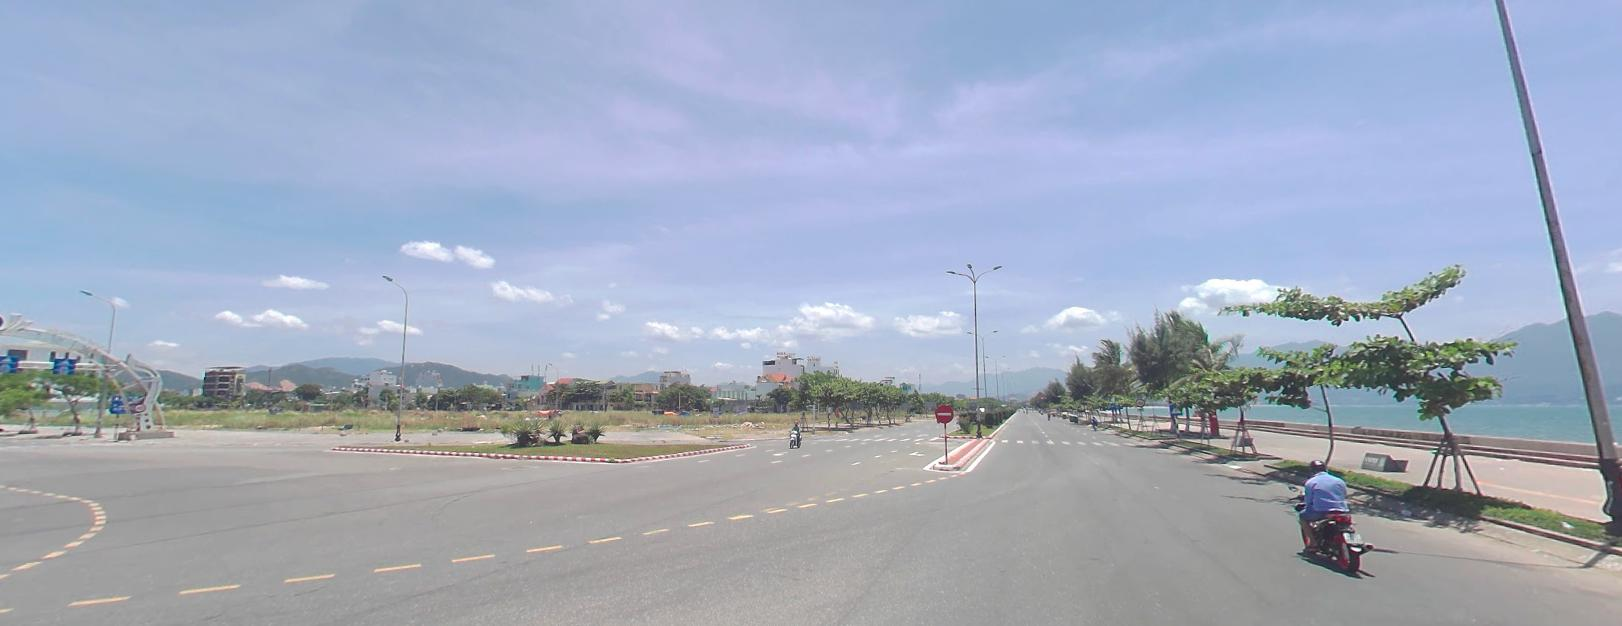Cam con lai: (134, 402, 145, 410)
Cam nguoc chieu: (935, 403, 953, 421)
Gioi han toc do: (1135, 397, 1144, 405)
